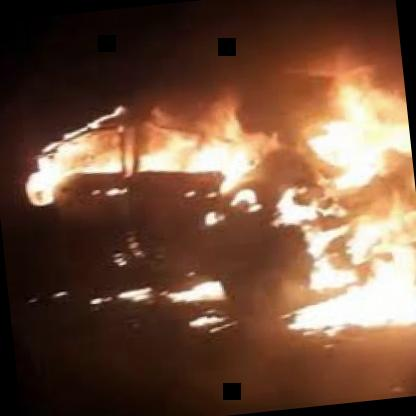fire: (73, 50, 407, 346)
